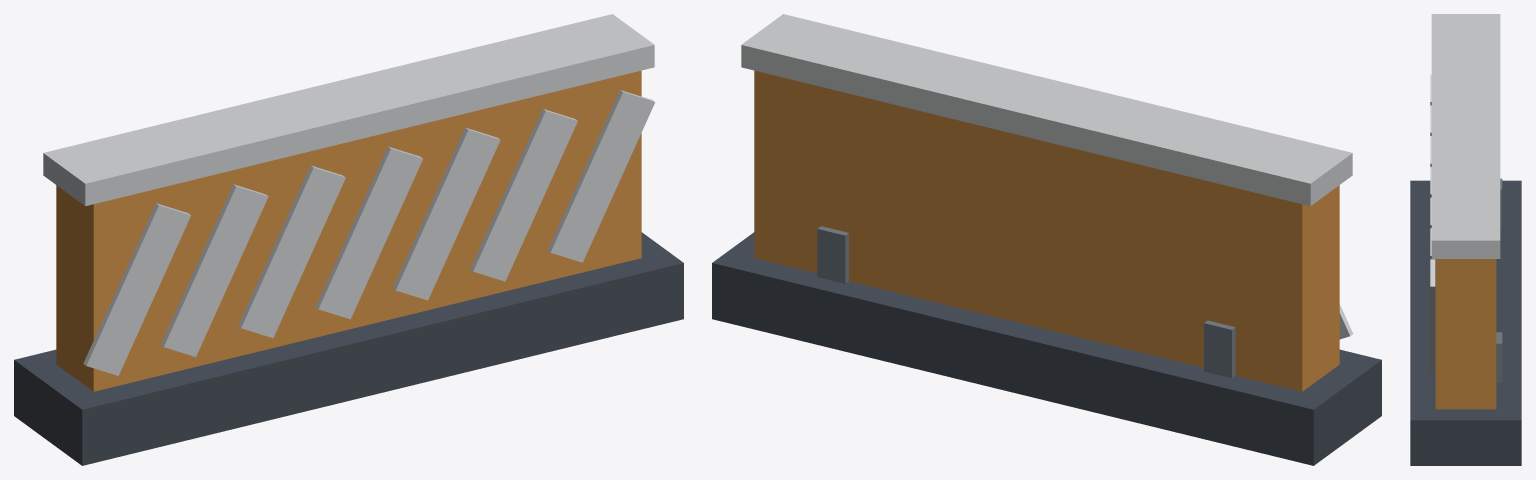
Rendered from construction_roadblock.glb.
3 views of the same model, side by side, from view 1: azimuth 30°, elevation 25°; view 2: azimuth 150°, elevation 25°; view 3: azimuth 270°, elevation 25° (orthographic). The views are drawn at different scales.
Parts seen in each view (by area): view 1: roadblock_body, roadblock_base, roadblock_top, roadblock_white_panel_3, roadblock_white_panel_4, roadblock_white_panel_1, roadblock_white_panel_6, roadblock_white_panel_0, roadblock_white_panel_2, roadblock_white_panel_5; view 2: roadblock_body, roadblock_base, roadblock_top, roadblock_support_-0.9, roadblock_support_0.9; view 3: roadblock_top, roadblock_base, roadblock_body, roadblock_white_panel_6, roadblock_support_0.9, roadblock_support_-0.9.
Part boxes in pixels (x1=…): roadblock_body: x1=56, y1=70, x2=641, y2=391; roadblock_base: x1=14, y1=232, x2=683, y2=465; roadblock_top: x1=43, y1=14, x2=654, y2=206; roadblock_white_panel_3: x1=315, y1=146, x2=422, y2=319; roadblock_white_panel_4: x1=393, y1=127, x2=500, y2=300; roadblock_white_panel_1: x1=160, y1=184, x2=268, y2=356; roadblock_white_panel_6: x1=547, y1=90, x2=655, y2=262; roadblock_white_panel_0: x1=83, y1=203, x2=190, y2=375; roadblock_white_panel_2: x1=238, y1=165, x2=345, y2=337; roadblock_white_panel_5: x1=470, y1=109, x2=577, y2=281; roadblock_body: x1=754, y1=70, x2=1339, y2=391; roadblock_base: x1=712, y1=232, x2=1381, y2=465; roadblock_top: x1=741, y1=14, x2=1352, y2=206; roadblock_support_-0.9: x1=1204, y1=320, x2=1235, y2=378; roadblock_support_0.9: x1=817, y1=226, x2=848, y2=283; roadblock_top: x1=1431, y1=14, x2=1500, y2=258; roadblock_base: x1=1410, y1=180, x2=1521, y2=465; roadblock_body: x1=1435, y1=259, x2=1496, y2=409; roadblock_white_panel_6: x1=1430, y1=259, x2=1435, y2=374; roadblock_support_0.9: x1=1496, y1=332, x2=1502, y2=382; roadblock_support_-0.9: x1=1500, y1=178, x2=1502, y2=228.
Size of the model in its own units: 2.8 by 1.2 by 0.55.
